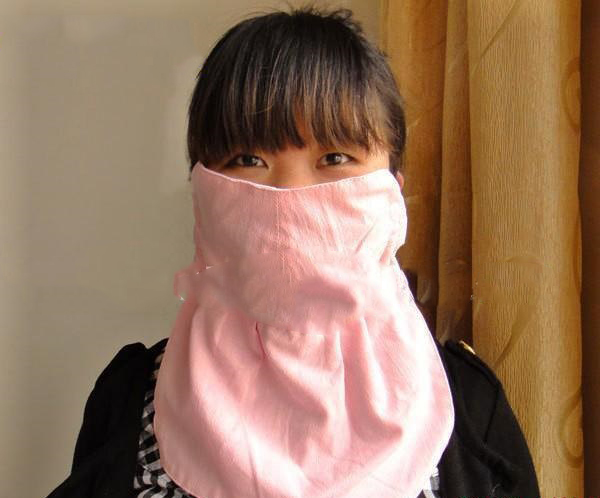face_mask: (197, 72, 395, 290)
